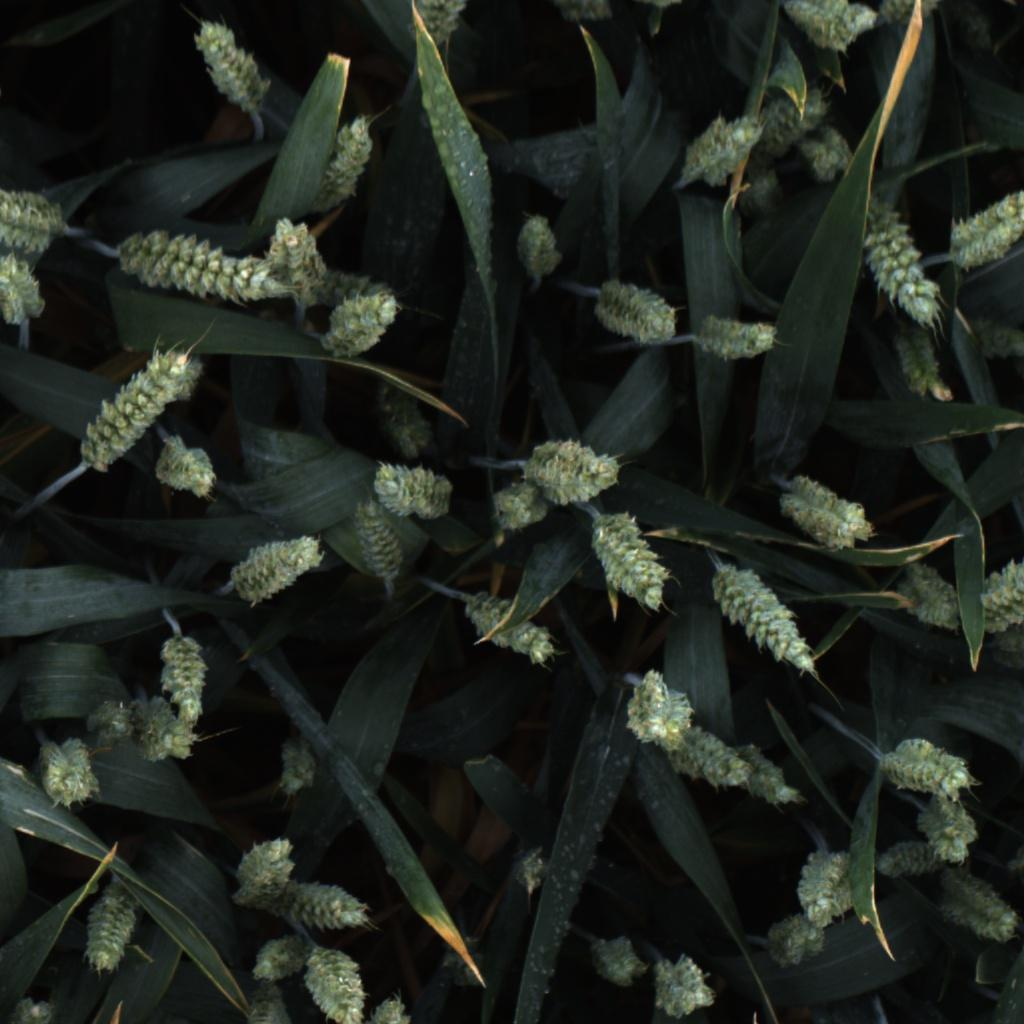0-0: (77, 341, 202, 481), (113, 226, 305, 312), (707, 562, 817, 680), (859, 184, 944, 330), (584, 512, 678, 616), (190, 14, 274, 116), (929, 860, 1020, 947), (775, 474, 875, 553), (615, 663, 699, 757), (223, 529, 324, 607), (879, 730, 982, 806), (519, 436, 626, 508), (944, 176, 1024, 271), (260, 217, 335, 318), (678, 109, 764, 193), (590, 275, 687, 349), (318, 286, 409, 362), (460, 595, 554, 666), (272, 875, 381, 936), (312, 109, 379, 206), (668, 728, 759, 799), (24, 737, 111, 811), (370, 380, 443, 462), (884, 323, 958, 403), (727, 741, 809, 813), (156, 629, 219, 720), (370, 456, 459, 520), (893, 559, 965, 638), (77, 885, 139, 976), (0, 178, 73, 255), (345, 496, 407, 584), (779, 0, 880, 54), (226, 834, 302, 905), (302, 943, 368, 1024), (796, 845, 858, 931), (646, 949, 721, 1019), (127, 691, 200, 762), (912, 796, 982, 870), (757, 86, 833, 153), (509, 208, 573, 284), (752, 911, 833, 970), (0, 247, 54, 333), (695, 313, 786, 363), (485, 471, 557, 533), (153, 437, 220, 503), (797, 116, 859, 187), (976, 552, 1024, 642), (318, 267, 399, 318), (584, 931, 648, 992), (79, 695, 143, 752), (245, 927, 309, 982), (876, 830, 940, 883), (273, 737, 322, 804), (406, 0, 473, 48), (965, 312, 1024, 363), (504, 841, 555, 894), (239, 979, 296, 1024), (540, 0, 617, 32), (351, 992, 423, 1024), (870, 0, 954, 25), (167, 355, 208, 404), (0, 992, 57, 1024), (629, 0, 711, 18), (1005, 844, 1024, 872)
